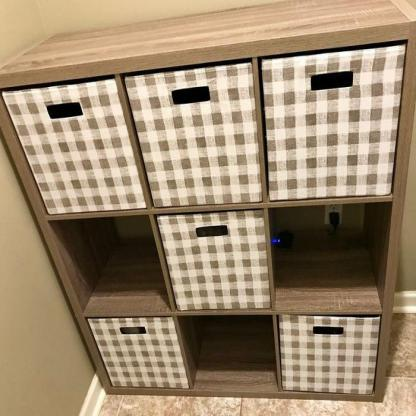lamp: (0, 0, 415, 404)
